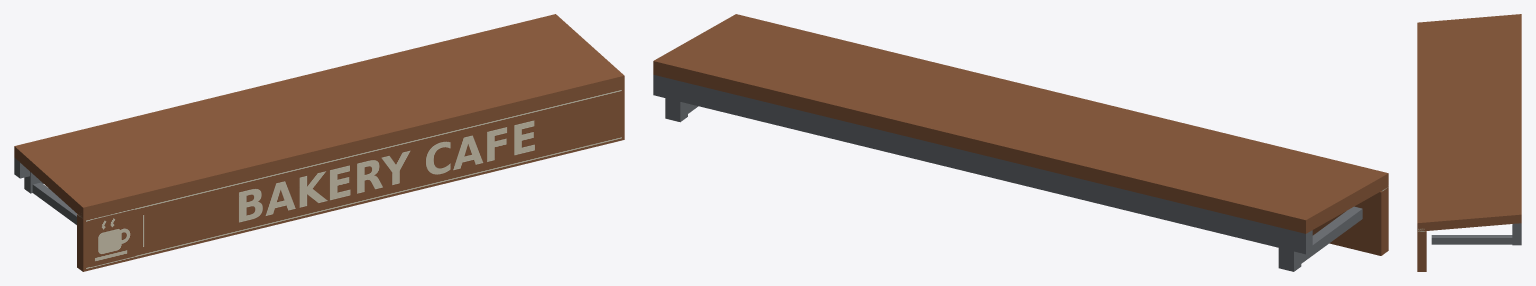
File: building-business-bakery-cafe.glb
3 views of the same model, side by side, from view 1: azimuth 30°, elevation 25°; view 2: azimuth 150°, elevation 25°; view 3: azimuth 270°, elevation 25° (orthographic). The views are drawn at different scales.
Parts seen in each view (by area): view 1: business-bakery-cafe; view 2: business-bakery-cafe; view 3: business-bakery-cafe.
Boxes of the visible parts, x1,y1,x2,y2 form: business-bakery-cafe: (14,14,624,271); business-bakery-cafe: (653,14,1388,271); business-bakery-cafe: (1417,14,1521,271).
Bounding box in the file's own units: 3 × 0.4 × 0.66.
4 materials, 1 textured.
